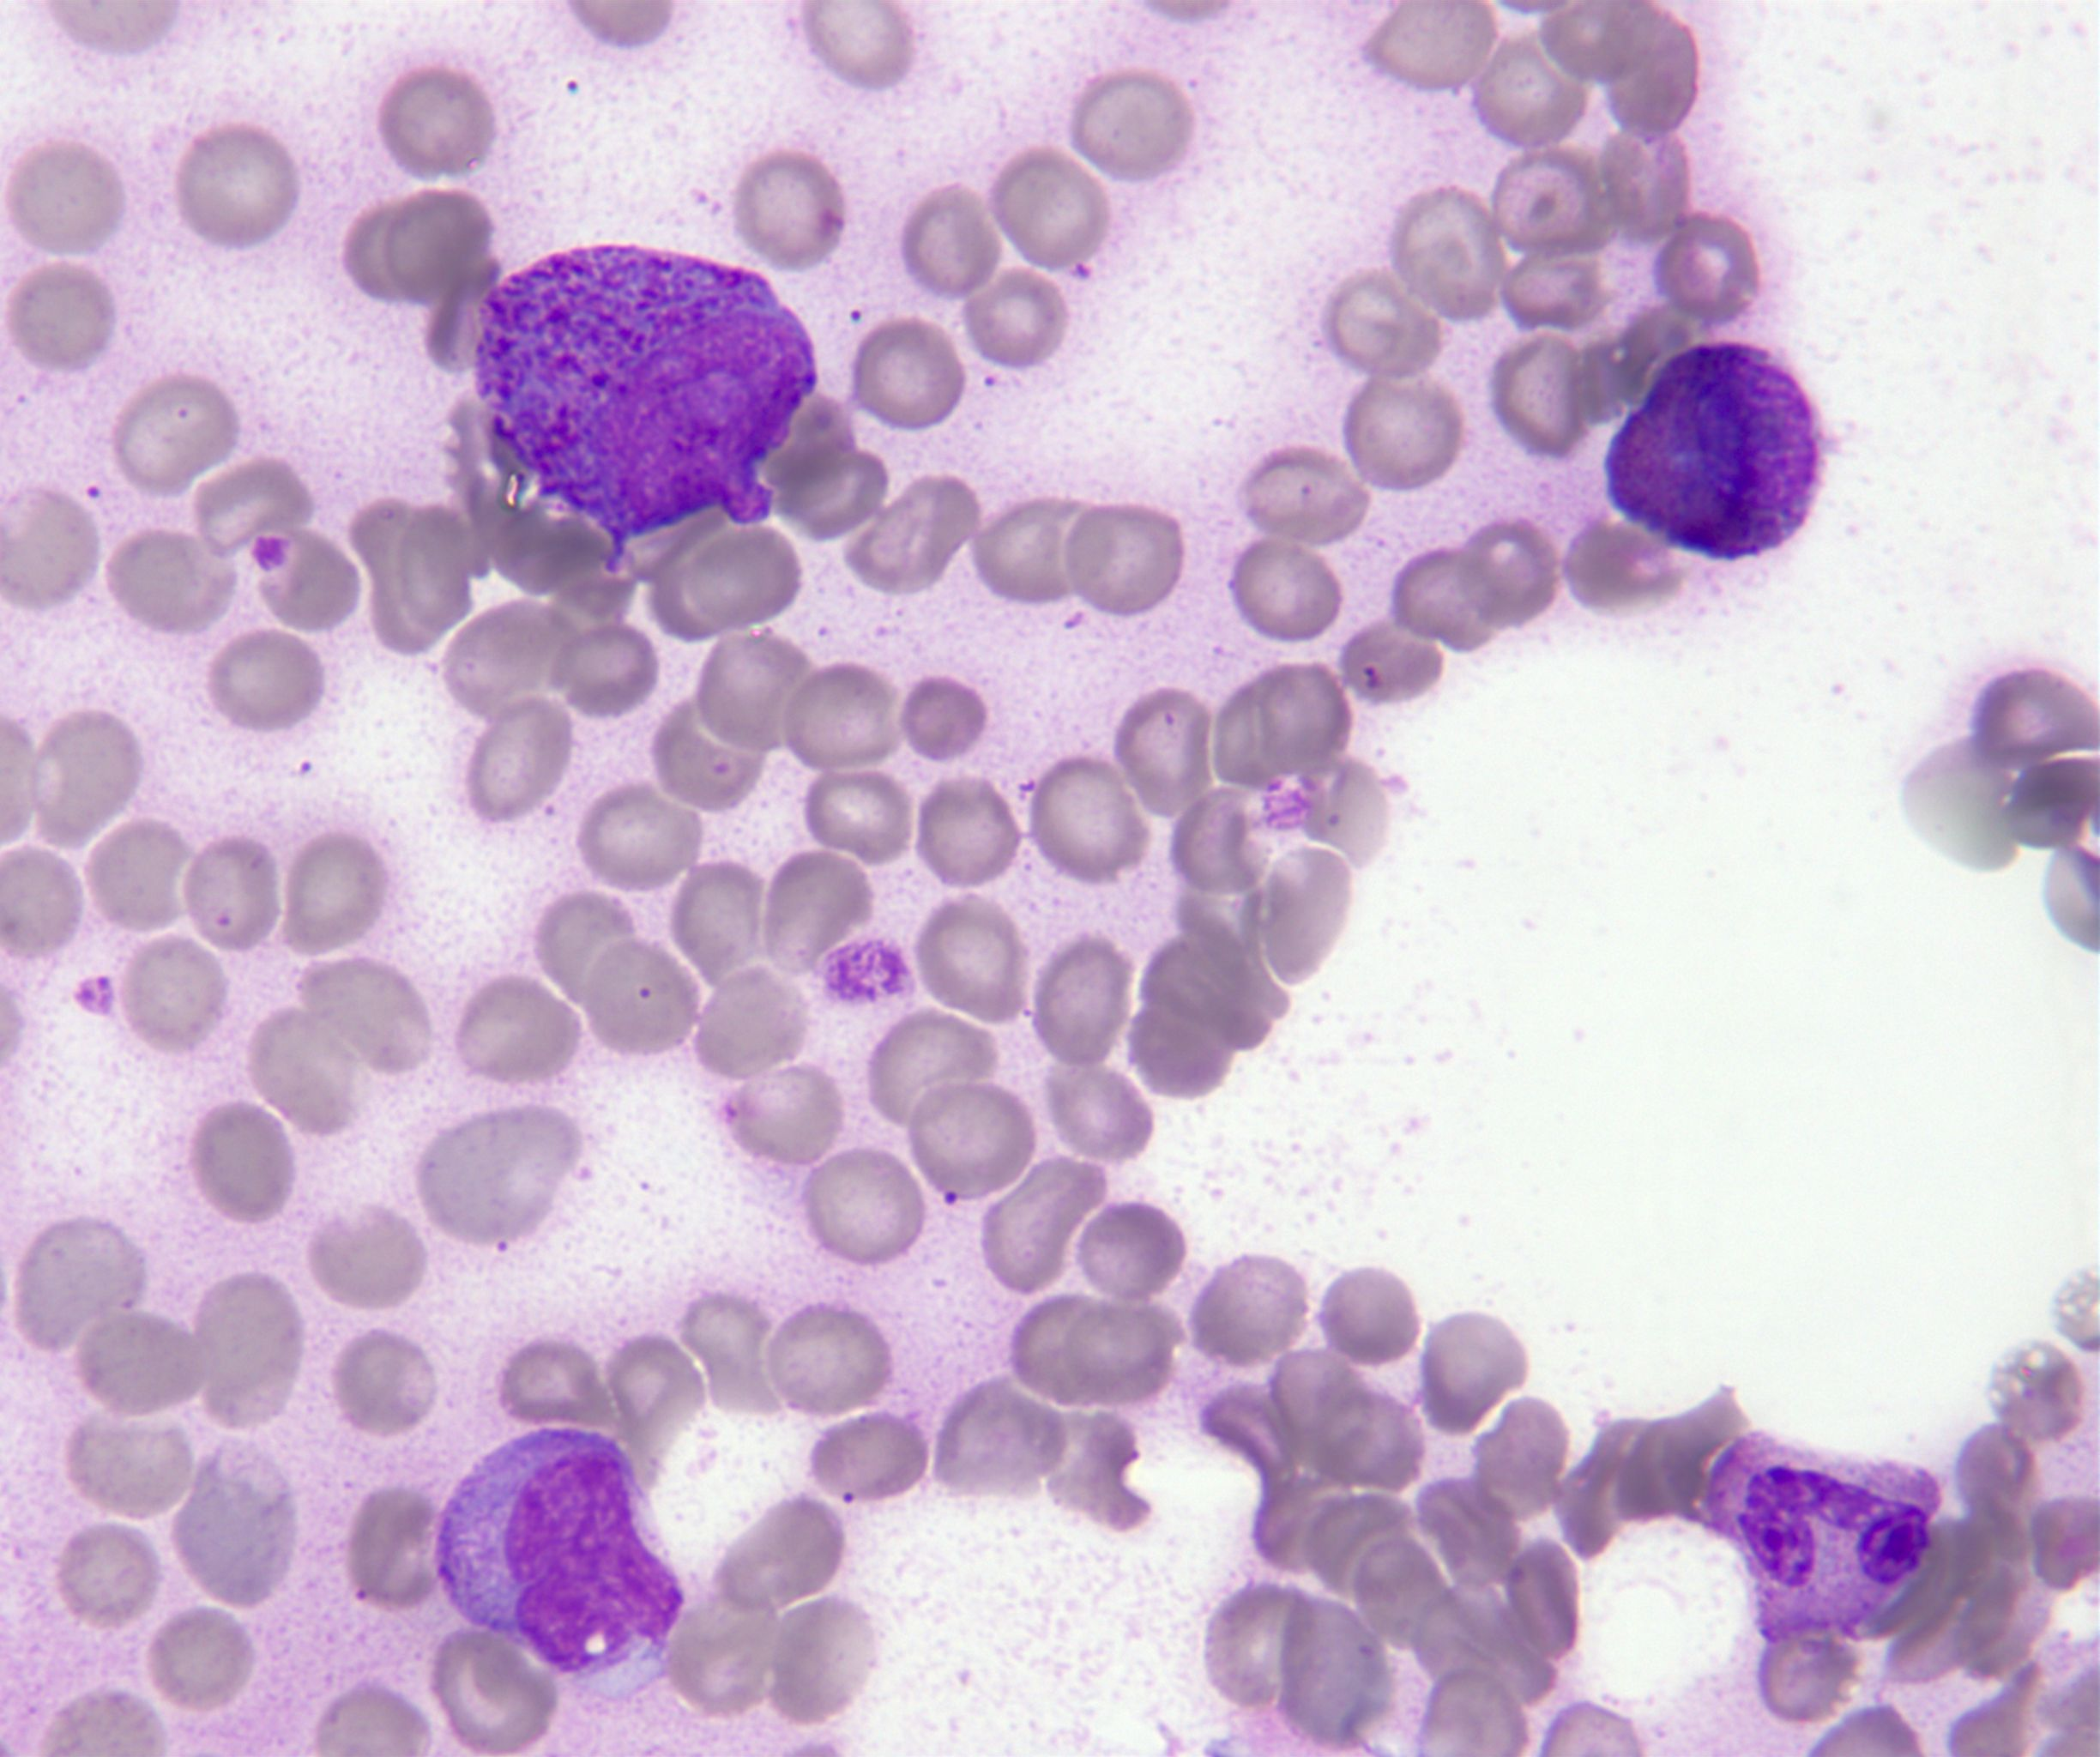2: (474, 248, 815, 576), (1704, 1434, 1943, 1645)
42: (438, 1432, 682, 1678)
E2: (1605, 342, 1821, 560)
